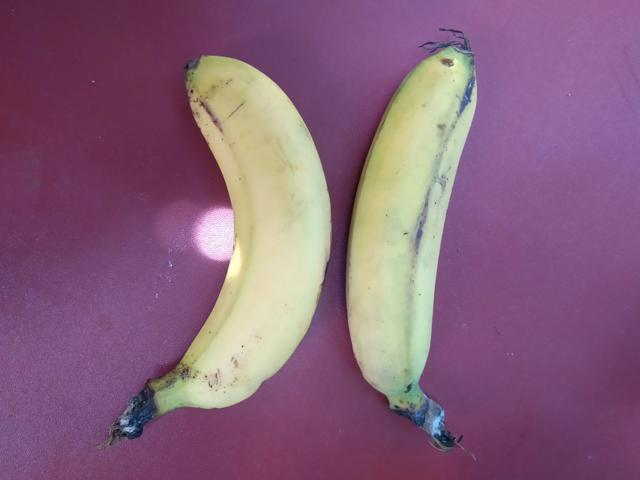freshripe: (158, 25, 373, 441)
ripe: (339, 31, 521, 466)
